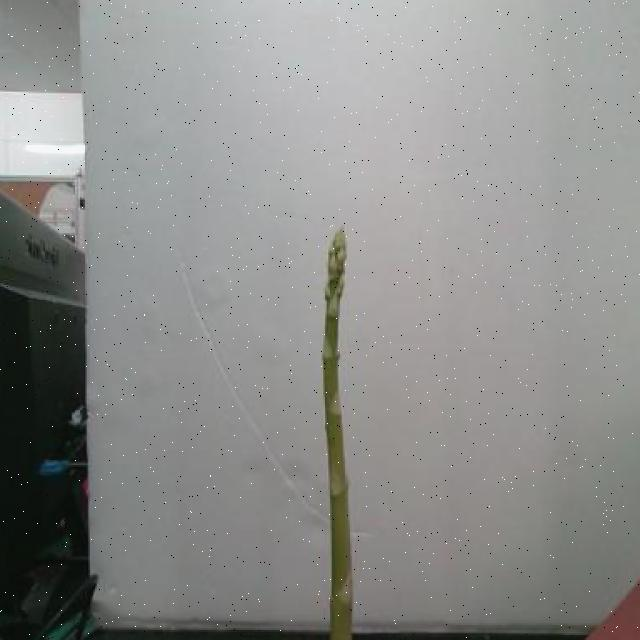aspargus: (322, 228, 353, 640)
